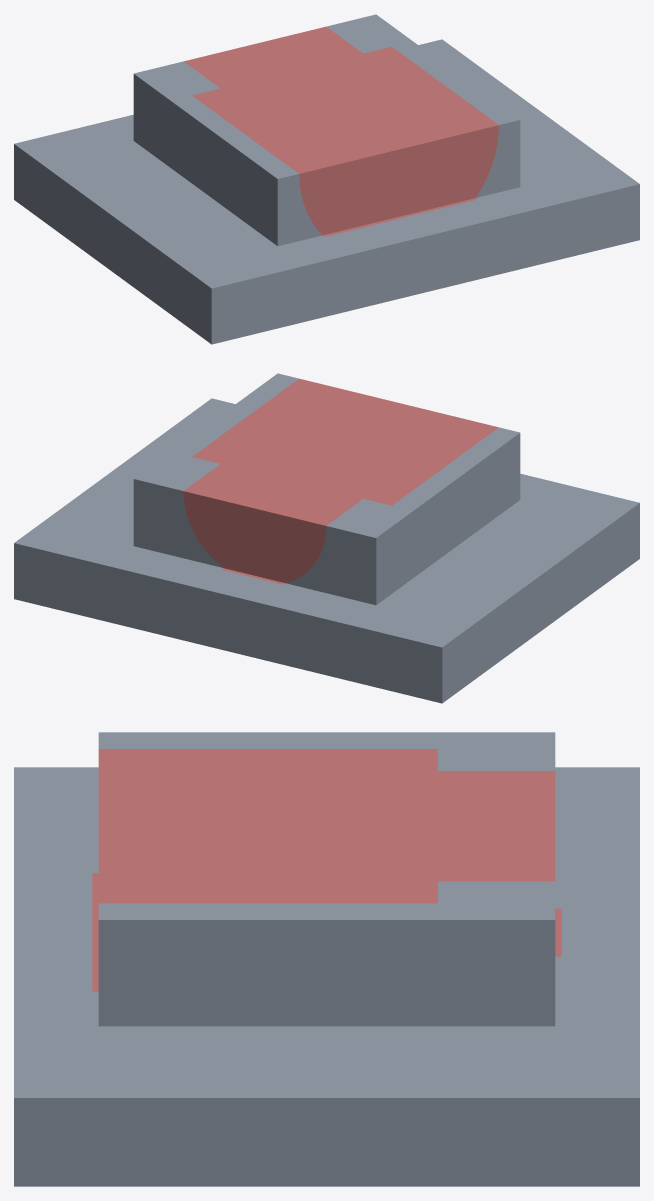
The model's file is step_03.glb.
3 views of the same model, one above another, from view 1: azimuth 30°, elevation 25°; view 2: azimuth 150°, elevation 25°; view 3: azimuth 270°, elevation 25° (orthographic). The views are drawn at different scales.
Visible parts, largest first — view 1: part__saddle bearing block, removed__saddle bearing block; view 2: part__saddle bearing block, removed__saddle bearing block; view 3: part__saddle bearing block, removed__saddle bearing block.
Part boxes in pixels (x1,y1,x2,y2): part__saddle bearing block: (14, 14, 639, 344); removed__saddle bearing block: (184, 26, 498, 236); part__saddle bearing block: (14, 373, 639, 703); removed__saddle bearing block: (183, 378, 498, 584); part__saddle bearing block: (14, 732, 639, 1186); removed__saddle bearing block: (92, 749, 561, 991).
Bounding box in the file's own units: 120 × 33 × 96.
